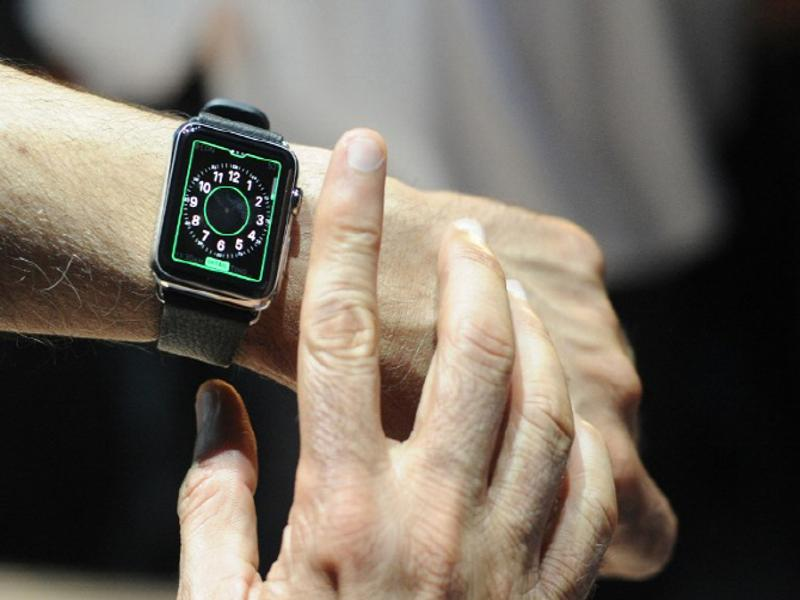watch: (149, 92, 302, 369)
